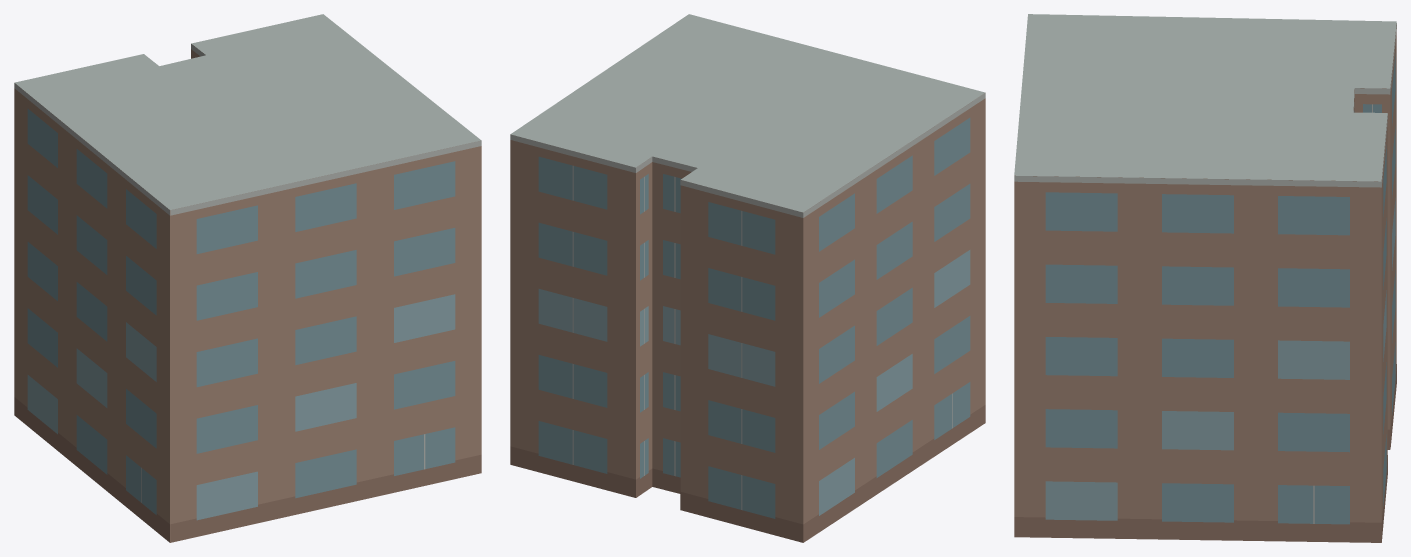
File: survey-upis-32662772.glb
The picture shows the model from 3 angles, left to right: view 1: azimuth 30°, elevation 25°; view 2: azimuth 150°, elevation 25°; view 3: azimuth 270°, elevation 25°; orthographic projection. The views are drawn at different scales.
Parts seen in each view (by area): view 1: survey-upis-32662772.tmp; view 2: survey-upis-32662772.tmp; view 3: survey-upis-32662772.tmp.
Part boxes in pixels (bbox=[...]): survey-upis-32662772.tmp: bbox=[14, 14, 481, 542]; survey-upis-32662772.tmp: bbox=[510, 14, 985, 542]; survey-upis-32662772.tmp: bbox=[1014, 14, 1396, 542].
Size of the model in its own units: 14.62 by 14.7 by 14.12.
